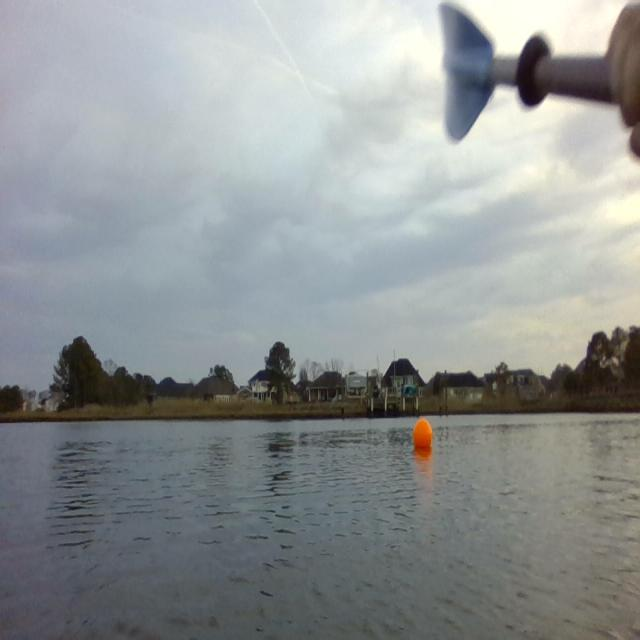Buoy: (412, 417, 434, 453)
